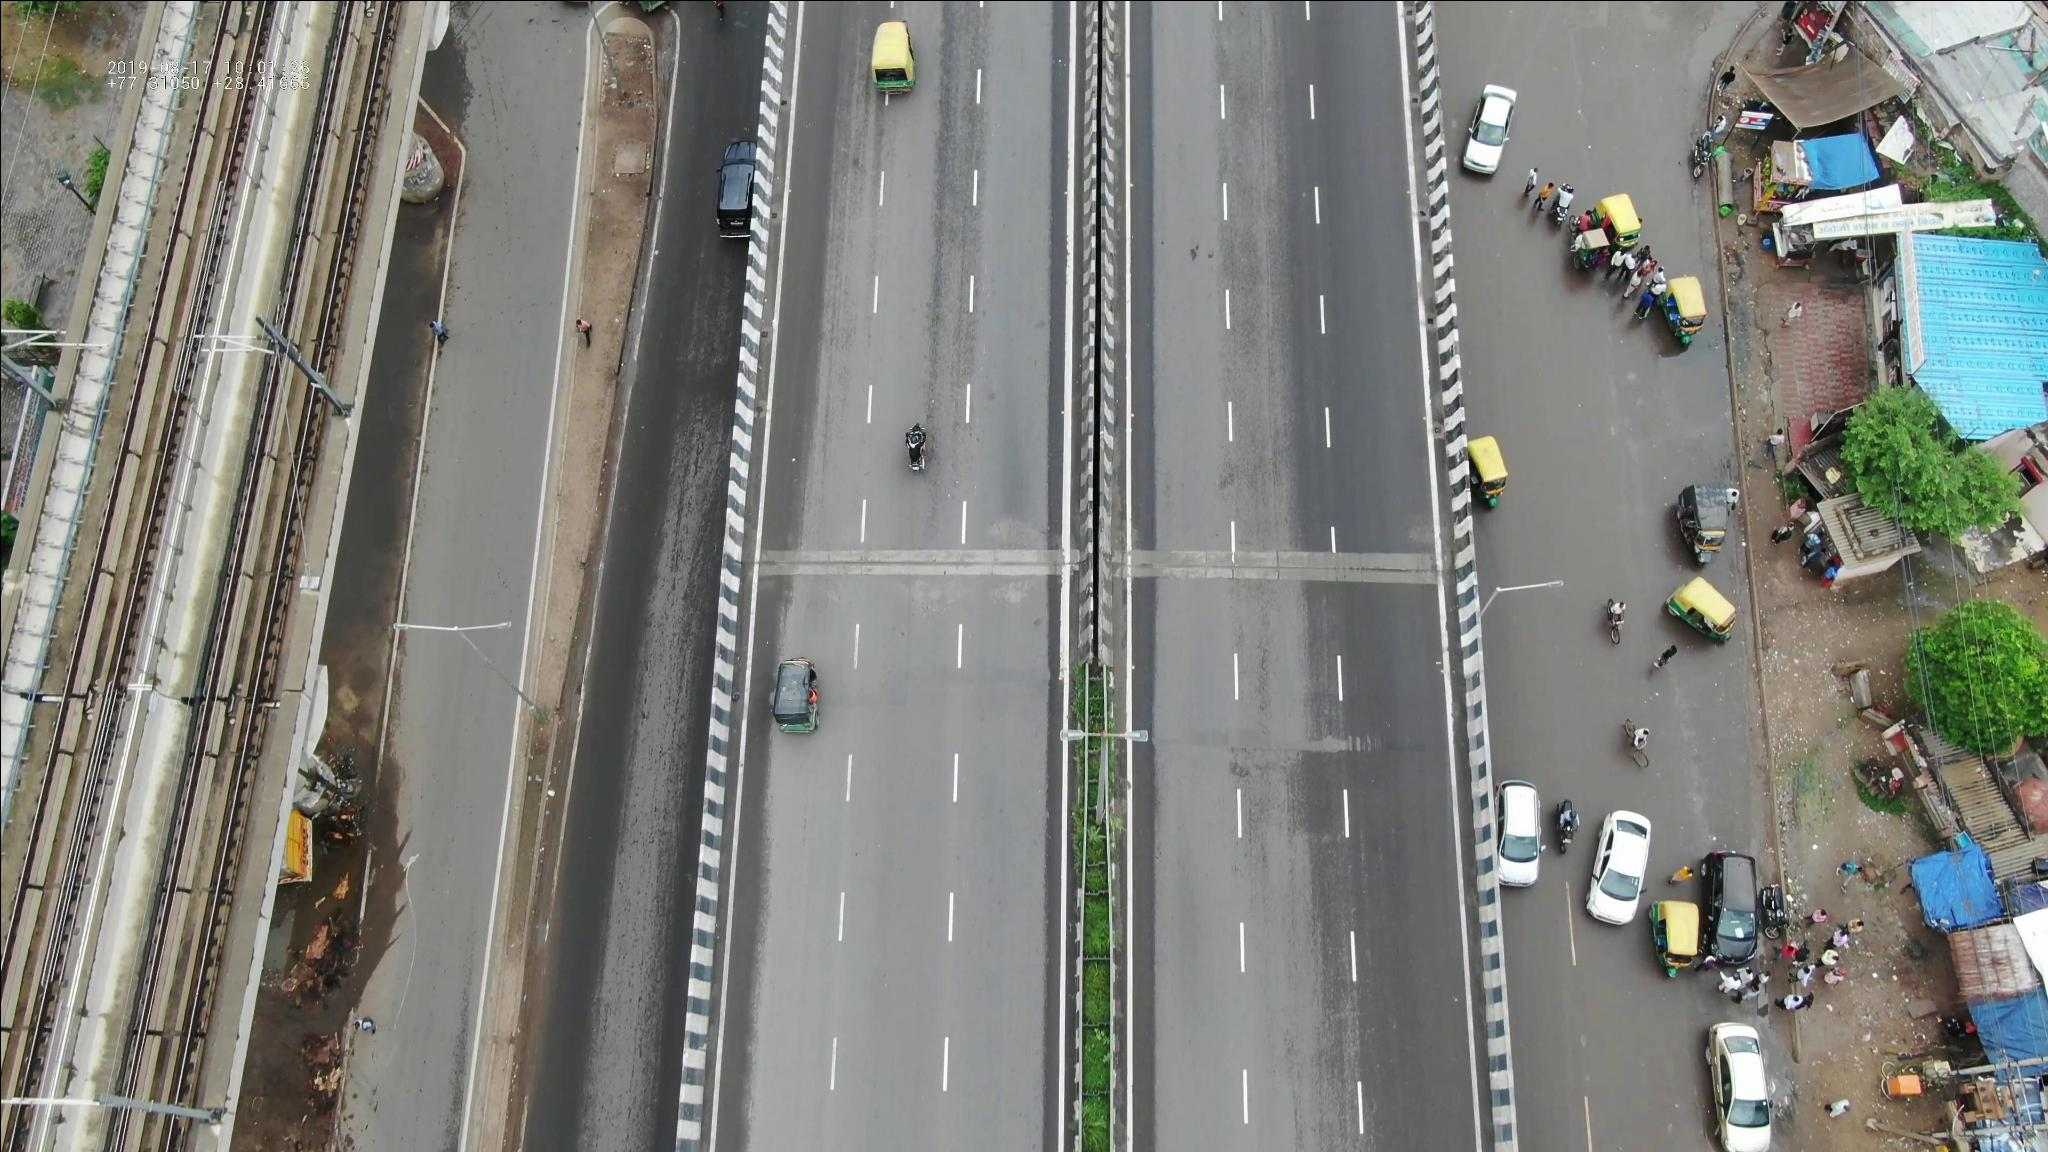Waterlogging: (1654, 677, 1760, 845), (1620, 360, 1737, 466)
